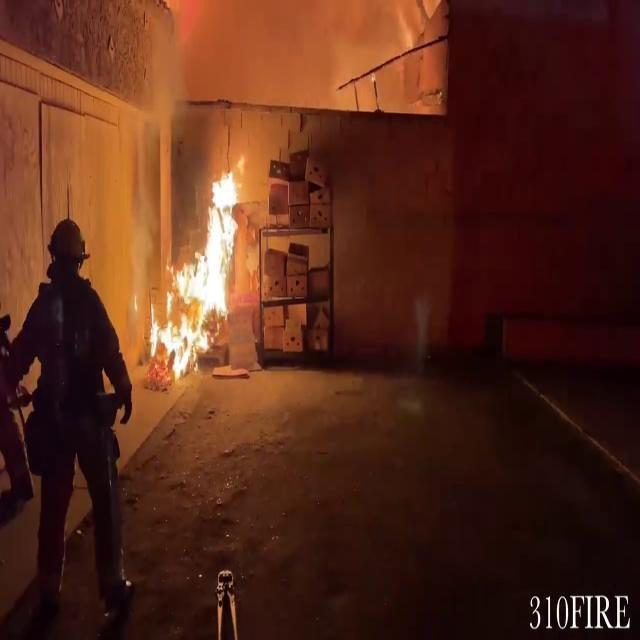Fire: (152, 158, 246, 376)
